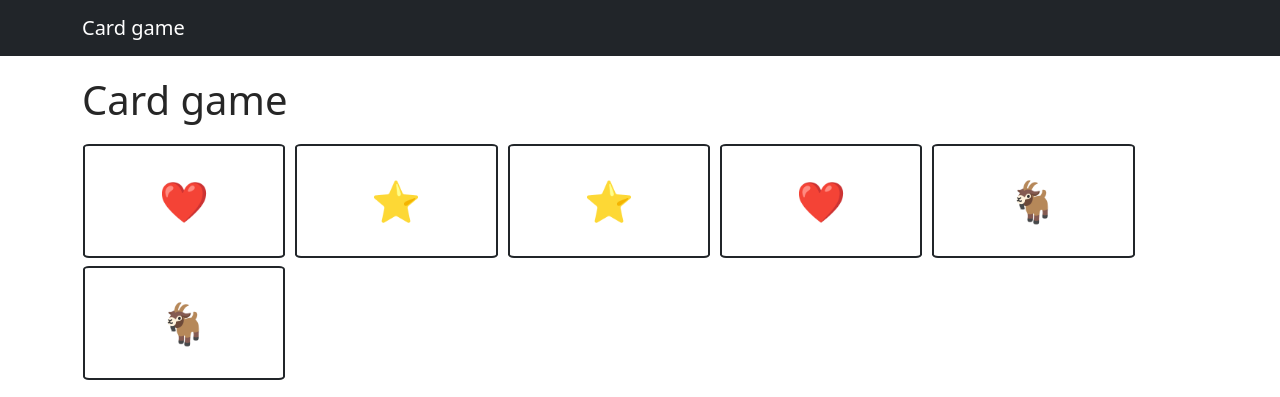
Test case: Defining the moves the player can do › should match cards with the same content
The width and height of the screenshot is (1280, 397).
Click the element with test id "card-2": coordinates (396, 201) [295,144,497,258]
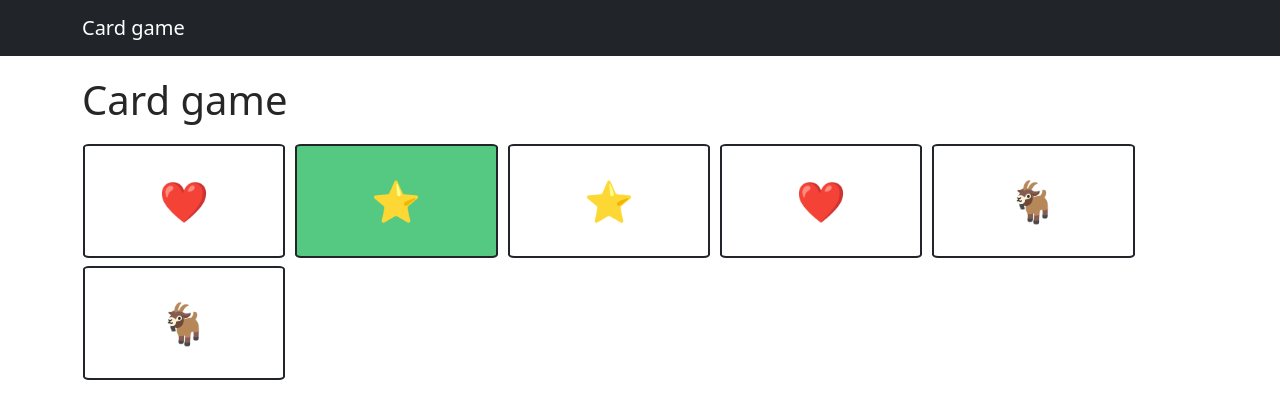
Click the element with test id "card-3": coordinates (609, 201) [508,144,710,258]
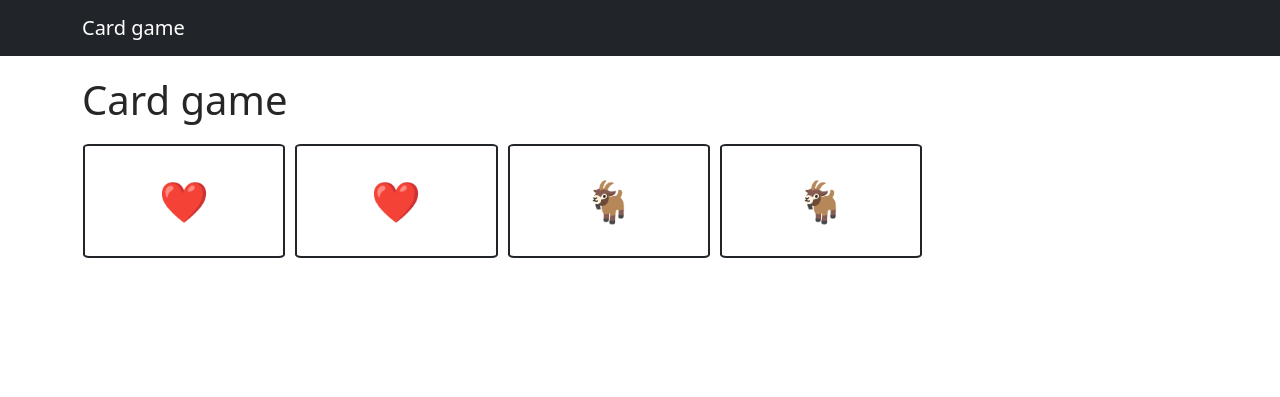
Expected: the 1st text "❤️" is shown, [159,173,209,228]
Result: the text "⭐" is gone
